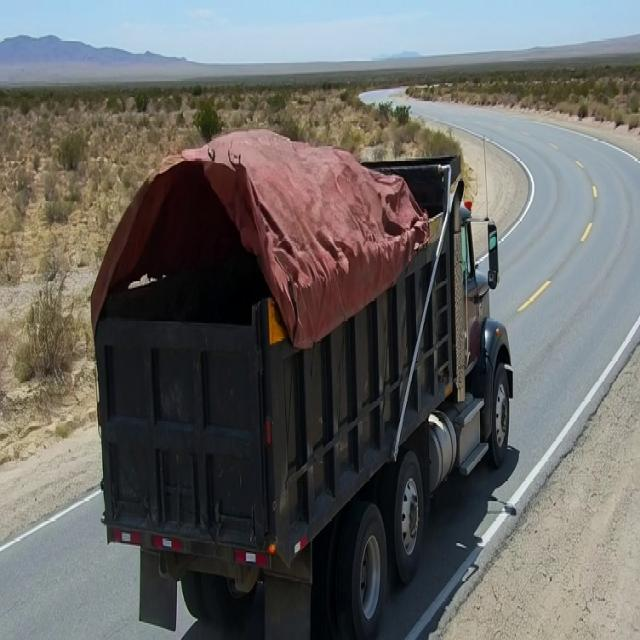trailer: (75, 130, 483, 359)
truck: (70, 121, 513, 617)
